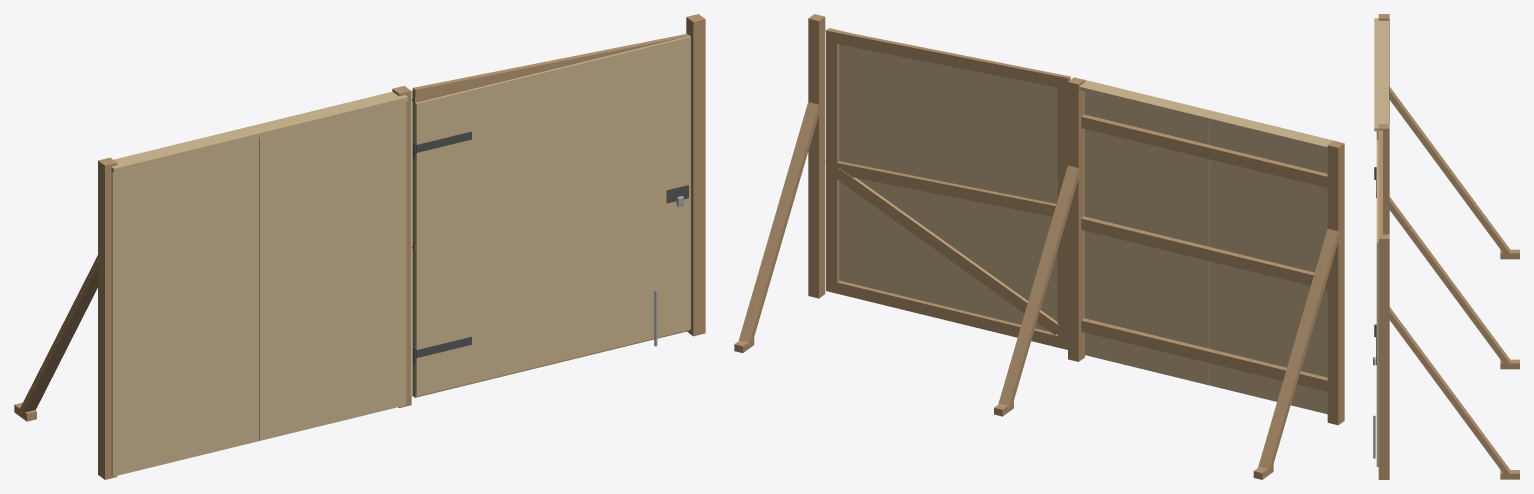
File: site_hoarding.glb
3 views of the same model, side by side, from view 1: azimuth 30°, elevation 25°; view 2: azimuth 150°, elevation 25°; view 3: azimuth 270°, elevation 25° (orthographic). The views are drawn at different scales.
Parts seen in each view (by area): view 1: hoarding_section, gate_rotate, gate_section; view 2: hoarding_section, gate_rotate, gate_section; view 3: hoarding_section, gate_section, gate_rotate.
Part boxes in pixels (bbox=[...]): hoarding_section: bbox=[14, 86, 411, 479]; gate_rotate: bbox=[412, 34, 690, 397]; gate_section: bbox=[413, 14, 705, 363]; hoarding_section: bbox=[994, 77, 1344, 479]; gate_rotate: bbox=[825, 28, 1070, 349]; gate_section: bbox=[734, 14, 825, 352]; hoarding_section: bbox=[1374, 14, 1519, 369]; gate_section: bbox=[1374, 167, 1519, 479]; gate_rotate: bbox=[1373, 130, 1382, 466].
Bounding box in the file's own units: 4.9 × 2.45 × 1.35.
Materials: 4 (4 with a texture image).
